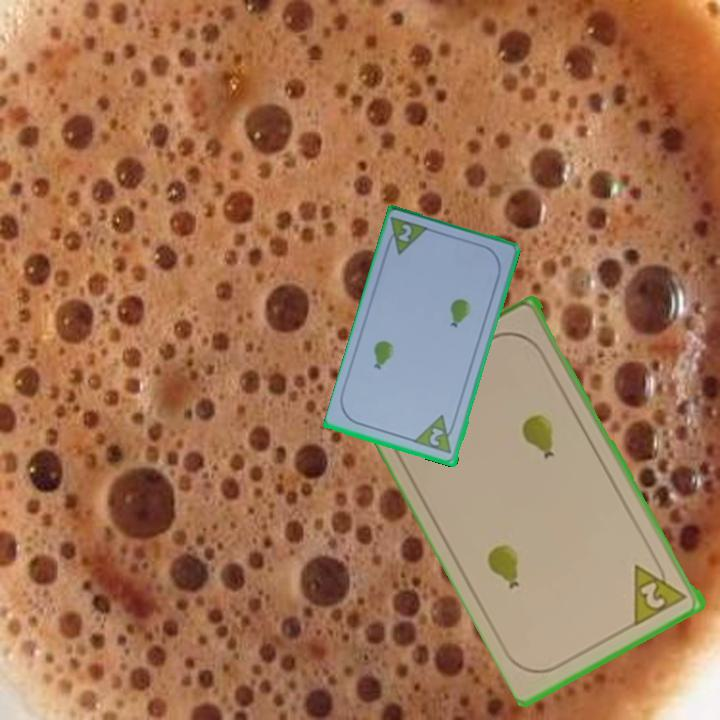2p: (630, 553, 690, 628), (412, 412, 459, 457), (395, 220, 415, 246)
